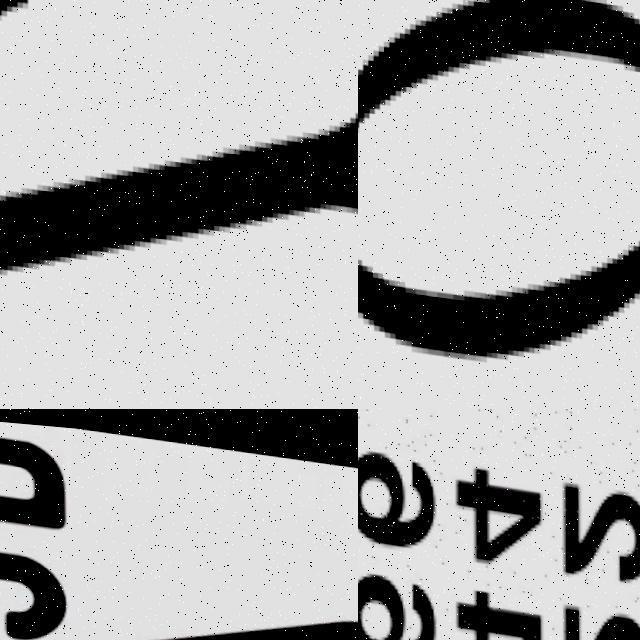2: (548, 464, 640, 579), (547, 587, 640, 640)
3: (0, 519, 73, 640)
4: (447, 452, 548, 570), (446, 574, 549, 640)
6: (358, 437, 445, 551), (358, 556, 443, 640)
7: (128, 574, 358, 640)
B: (0, 409, 68, 528)
L: (0, 0, 358, 409)
Q: (358, 0, 640, 402)
